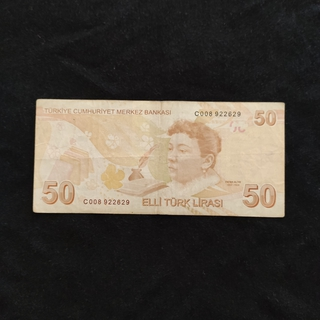50TLBack: (32, 98, 286, 218)
